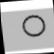no answer: (17, 12, 47, 40)
